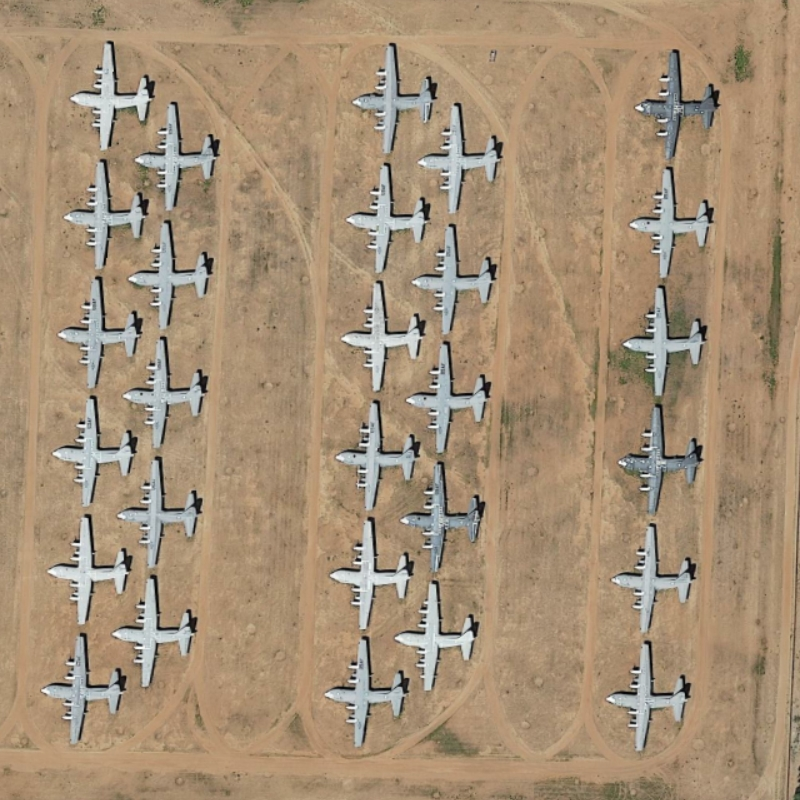A2: (399, 338, 504, 457), (404, 216, 501, 339), (609, 400, 708, 520), (345, 36, 440, 161), (109, 449, 203, 575), (105, 575, 204, 694), (599, 639, 693, 762), (121, 217, 217, 337), (37, 625, 129, 750), (615, 282, 715, 397), (119, 335, 219, 449), (393, 461, 494, 573), (320, 633, 412, 755), (335, 274, 429, 393), (65, 35, 158, 155), (625, 163, 718, 283), (323, 513, 415, 633), (395, 577, 483, 700), (48, 391, 141, 507), (631, 45, 723, 162), (54, 272, 144, 391), (338, 161, 431, 276), (331, 391, 420, 511), (44, 506, 133, 622), (612, 517, 698, 634), (136, 100, 221, 218), (59, 155, 146, 270), (417, 100, 504, 213)
